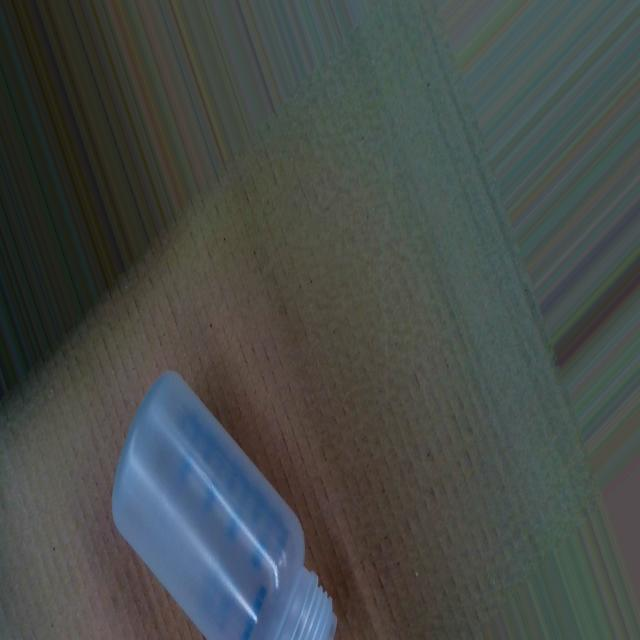bottle: (109, 366, 339, 640)
